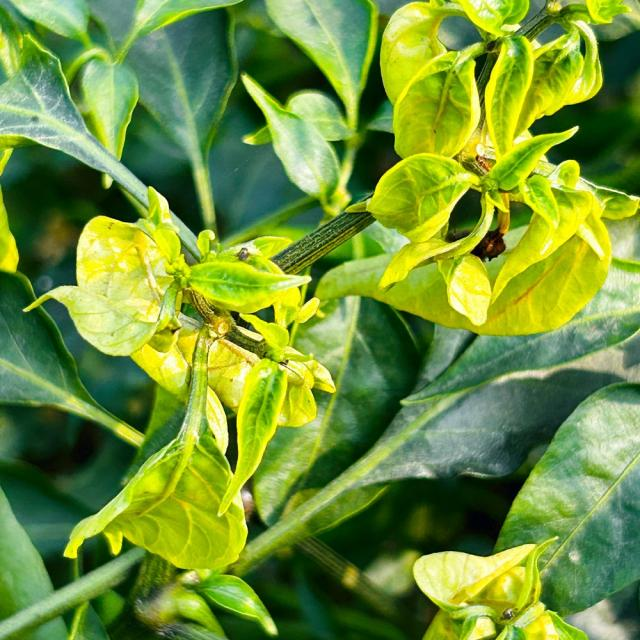Chilli_Leaf_Curl: (1, 1, 638, 636), (21, 184, 336, 571), (363, 0, 637, 336), (0, 0, 242, 237), (62, 326, 250, 572), (491, 380, 639, 618), (411, 534, 589, 639)
